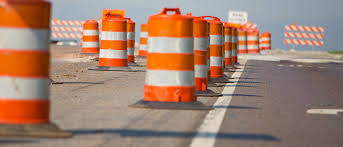barrel: (1, 1, 51, 125), (145, 14, 195, 101), (99, 10, 128, 66), (193, 17, 209, 90), (207, 17, 223, 76), (80, 20, 99, 53), (223, 23, 232, 64), (126, 19, 134, 65), (140, 23, 148, 58), (248, 29, 259, 53), (237, 26, 247, 52), (232, 25, 237, 64), (262, 32, 271, 50), (260, 33, 262, 50)
